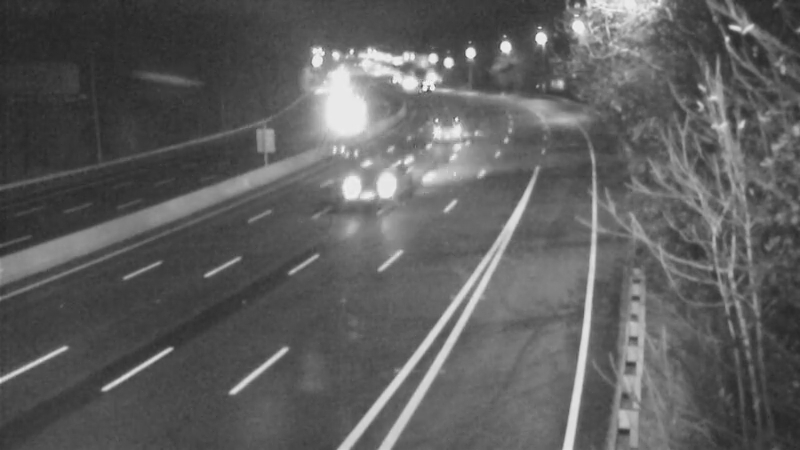vehicle: (340, 141, 420, 221), (405, 62, 455, 112), (417, 106, 467, 156), (320, 89, 370, 139)
